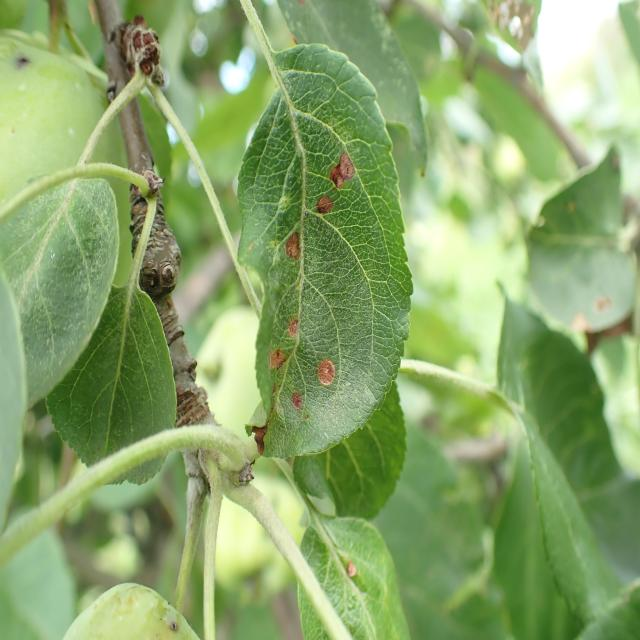Black Rot: (263, 223, 320, 270), (325, 142, 353, 202), (290, 371, 310, 446), (277, 306, 305, 356), (317, 348, 341, 397), (315, 187, 344, 226), (264, 339, 293, 375)
